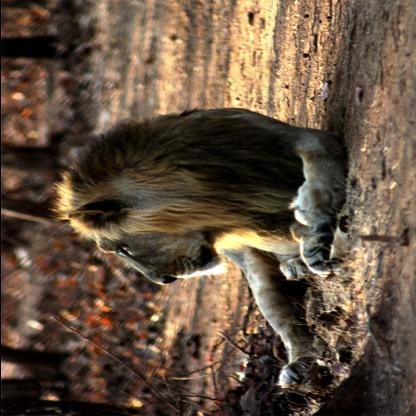lion: (50, 168, 228, 286)
